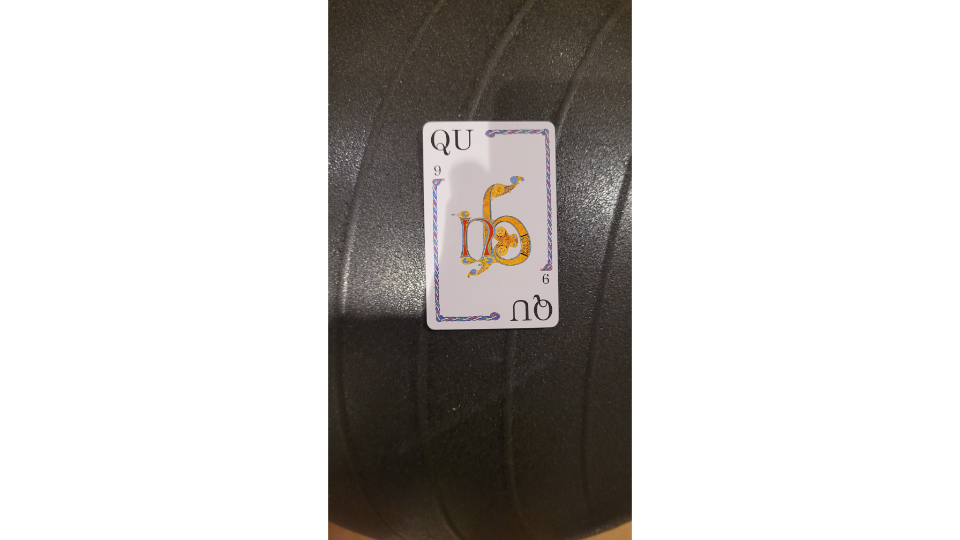QU: (417, 117, 566, 336)
